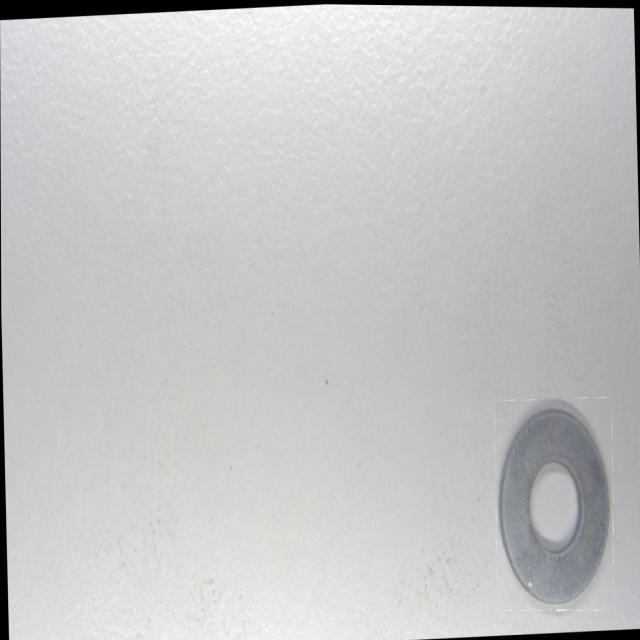washer: (495, 397, 612, 608)
